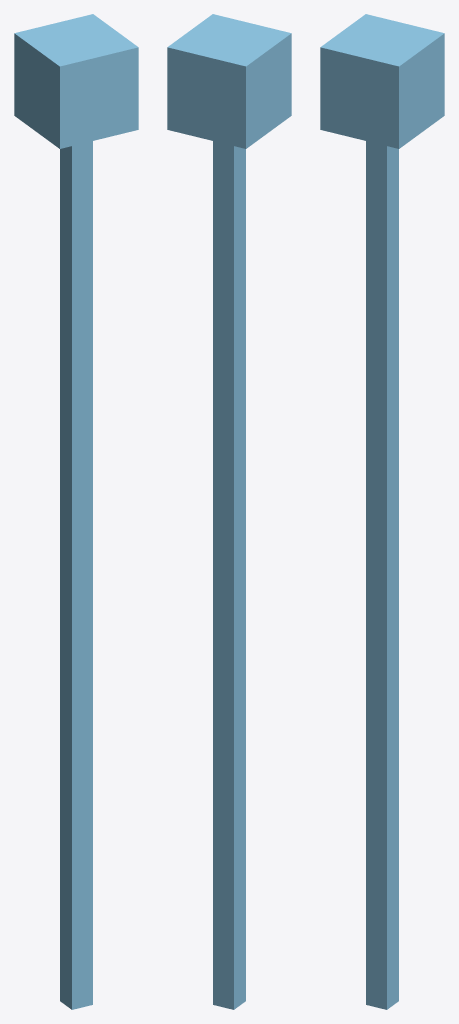
The model's file is frost_staff.glb.
3 views of the same model, side by side, from view 1: azimuth 30°, elevation 25°; view 2: azimuth 150°, elevation 25°; view 3: azimuth 330°, elevation 25° (orthographic).
Parts seen in each view (by area): view 1: frost_staff; view 2: frost_staff; view 3: frost_staff.
Boxes of the visible parts, box(x1,y1,x2,y2) form: frost_staff: box(14, 14, 138, 1009); frost_staff: box(167, 14, 291, 1009); frost_staff: box(320, 14, 444, 1009).
Size of the model in its own units: 0.15 by 1.75 by 0.15.
